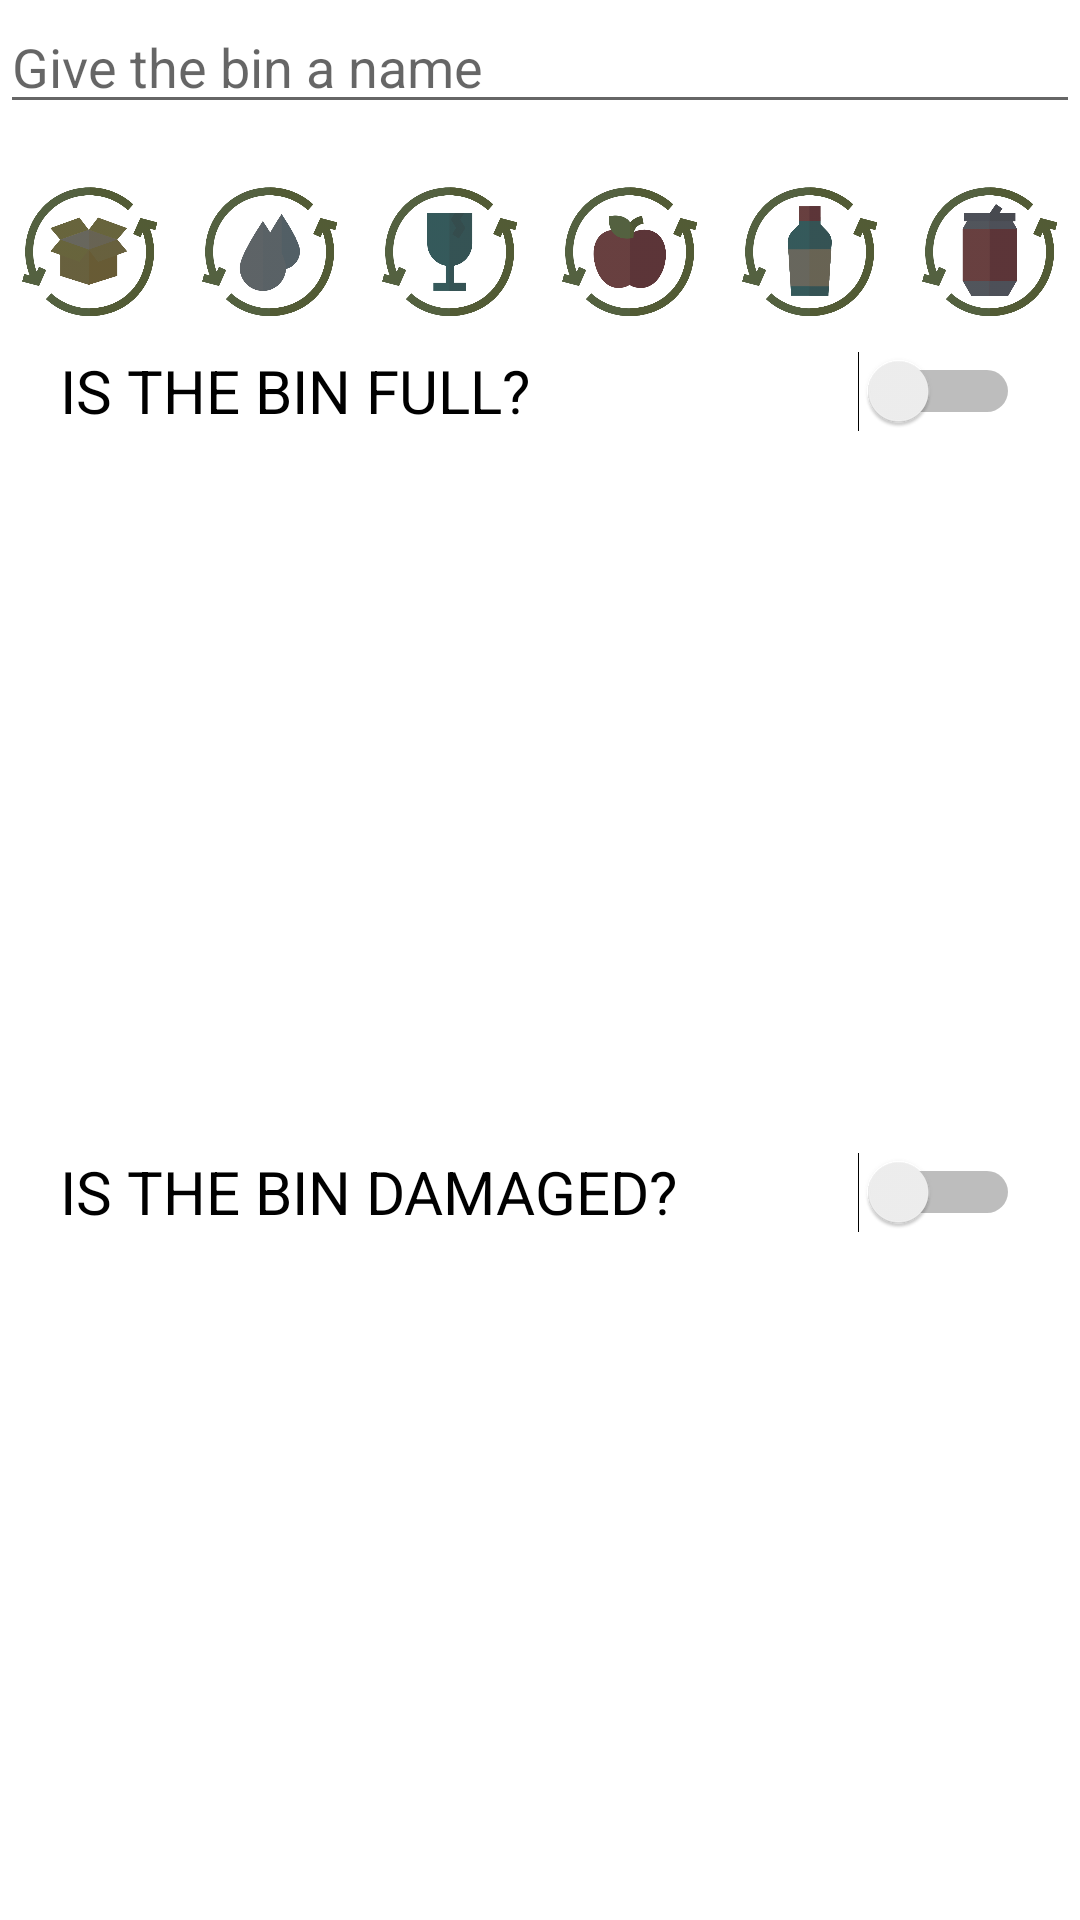

Where to tap for icons on this 1080px x 1920px app screen, as (x,y):
apple: (629,251)
bottle: (809,251)
can: (989,251)
glass recycling: (449,251)
resource package: (89,251)
water: (269,251)
